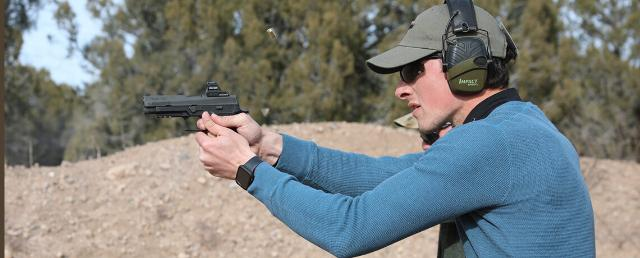handgun: (139, 78, 251, 144)
